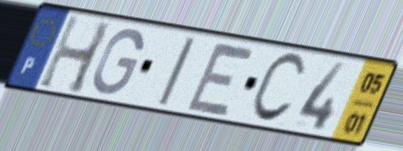4: (294, 58, 346, 134)
C: (246, 50, 308, 126)
E: (183, 38, 259, 120)
G: (89, 26, 146, 98)
H: (34, 11, 116, 98)
I: (154, 35, 199, 109)
